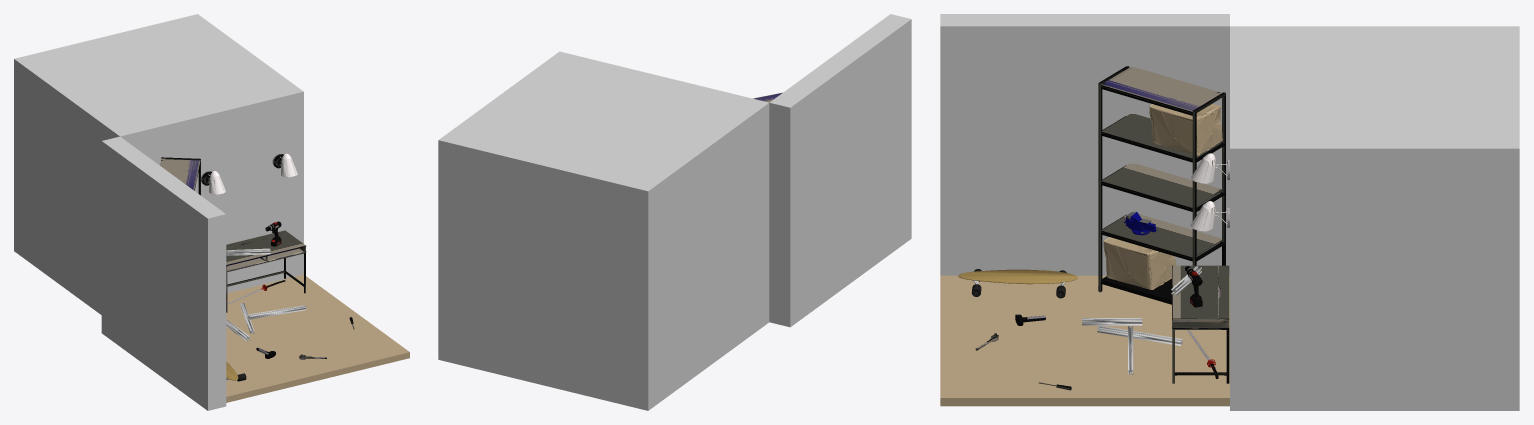
File: sez1_room.glb
3 renders of one model, left to right at view 1: azimuth 30°, elevation 25°; view 2: azimuth 150°, elevation 25°; view 3: azimuth 270°, elevation 25°, orthographic. The views are drawn at different scales.
Visible parts, largest first — view 1: Cube.012, Cube.019, Cube.018, banca, steel_frame_shelves_01_1k.001, lampa_perete.003, lampa_perete.002; view 2: Cube.012, Cube.019; view 3: Cube.012, Cube.019, Cube.018, steel_frame_shelves_01_1k.001, banca, cardboard_box_01_1k.007, cardboard_box_01_1k.005, Line001.002, lampa_perete.003, lampa_perete.002, Perfil2020.
Boxes of the visible parts, x1,y1,x2,y2 form: Cube.012: (14,14,303,314); Cube.019: (101,136,226,410); Cube.018: (226,274,409,402); banca: (226,230,306,312); steel_frame_shelves_01_1k.001: (160,157,200,195); lampa_perete.003: (272,153,297,177); lampa_perete.002: (201,171,225,194); Cube.012: (438,51,769,410); Cube.019: (769,14,911,327); Cube.012: (1230,26,1519,410); Cube.019: (940,14,1229,275); Cube.018: (940,275,1229,406); steel_frame_shelves_01_1k.001: (1098,66,1225,304); banca: (1172,265,1229,383); cardboard_box_01_1k.007: (1149,103,1222,155); cardboard_box_01_1k.005: (1103,237,1176,289); Line001.002: (958,269,1077,284); lampa_perete.003: (1190,201,1229,231); lampa_perete.002: (1191,153,1229,183); Perfil2020: (1097,325,1182,345).
Bounding box in the file's own units: 2.2 × 2 × 4.
Materials: 11 (7 with a texture image).
